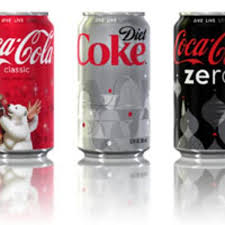coke: (71, 7, 164, 171)
